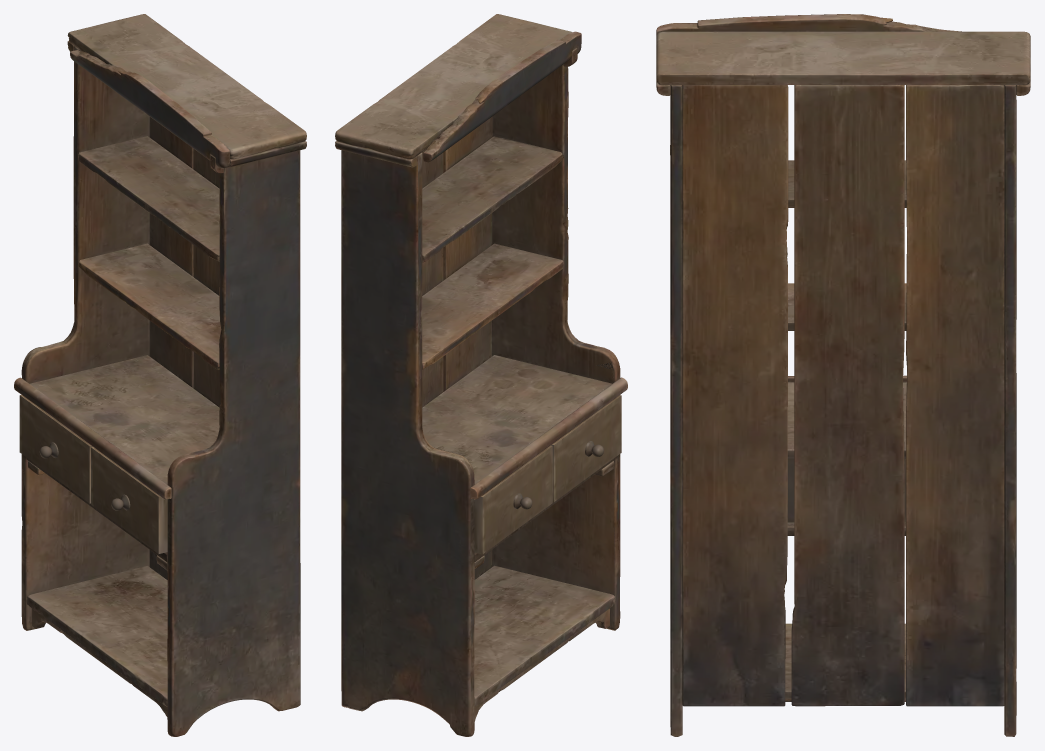
File: drawers.glb
3 views of the same model, side by side, from view 1: azimuth 30°, elevation 25°; view 2: azimuth 150°, elevation 25°; view 3: azimuth 270°, elevation 25° (orthographic). The views are drawn at different scales.
Visible parts, largest first — view 1: StaticMeshActor_229_StaticMeshComponent0, SM_Desk_01i_11_StaticMeshComponent0.004, SM_Desk_01i_11_StaticMeshComponent0.002; view 2: StaticMeshActor_229_StaticMeshComponent0, SM_Desk_01i_11_StaticMeshComponent0.002, SM_Desk_01i_11_StaticMeshComponent0.004; view 3: StaticMeshActor_229_StaticMeshComponent0.
Boxes of the visible parts, <box> form: StaticMeshActor_229_StaticMeshComponent0: <box>14,14,306,736</box>; SM_Desk_01i_11_StaticMeshComponent0.004: <box>91,447,167,553</box>; SM_Desk_01i_11_StaticMeshComponent0.002: <box>19,395,92,503</box>; StaticMeshActor_229_StaticMeshComponent0: <box>335,14,627,736</box>; SM_Desk_01i_11_StaticMeshComponent0.002: <box>474,445,552,554</box>; SM_Desk_01i_11_StaticMeshComponent0.004: <box>551,395,621,502</box>; StaticMeshActor_229_StaticMeshComponent0: <box>656,14,1030,736</box>.
Bounding box in the file's own units: 0.4926 × 1.85 × 0.9293.
2 materials, 2 textured.
